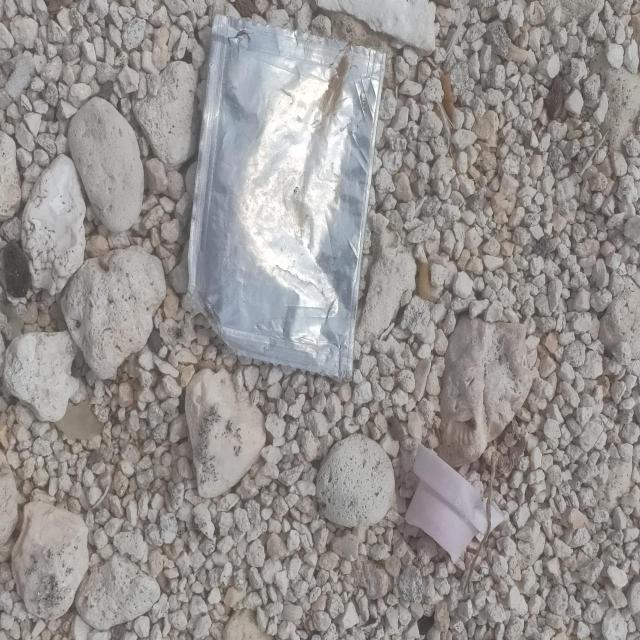plastic_waste: (188, 12, 389, 382)
